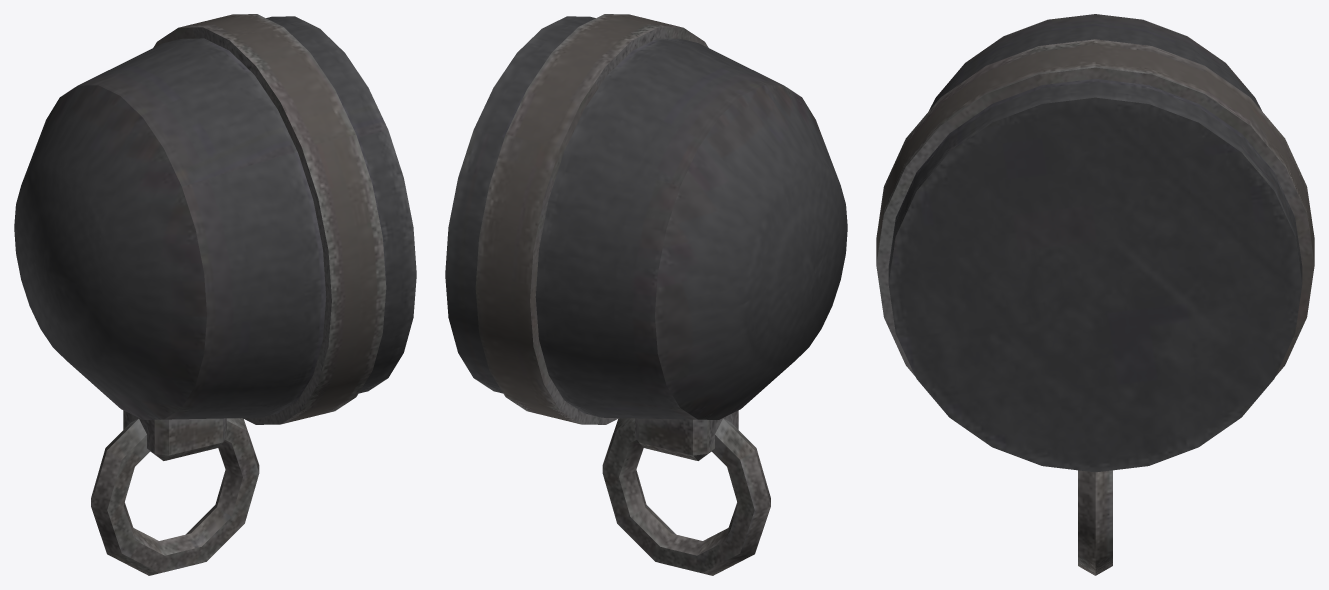
File: stub_cap.glb
3 views of the same model, side by side, from view 1: azimuth 30°, elevation 25°; view 2: azimuth 150°, elevation 25°; view 3: azimuth 270°, elevation 25° (orthographic). The views are drawn at different scales.
Visible parts, largest first — view 1: stub_cap; view 2: stub_cap; view 3: stub_cap.
Part boxes in pixels (x1,y1,x2,y2): stub_cap: (14, 14, 416, 575); stub_cap: (445, 14, 847, 575); stub_cap: (876, 14, 1314, 575).
Size of the model in its own units: 0.03 by 0.0544 by 0.0392.
Materials: 1 (1 with a texture image).
